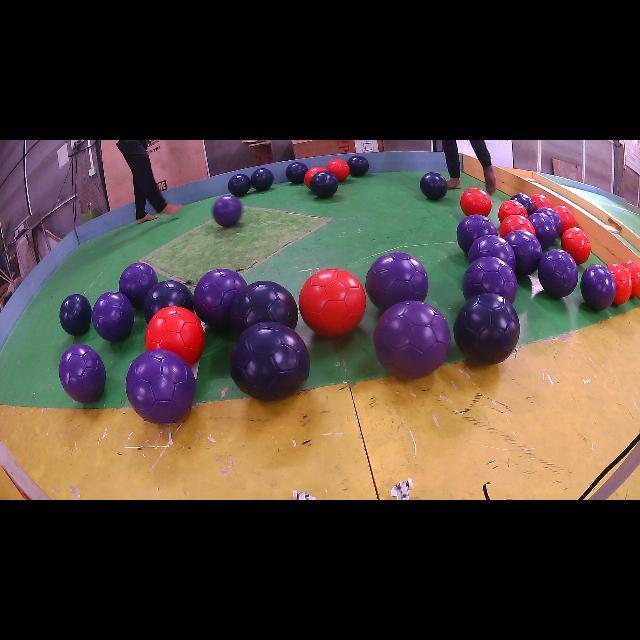B: (230, 322, 310, 401), (454, 292, 520, 364), (230, 281, 299, 334), (142, 280, 194, 322), (59, 294, 91, 336), (310, 170, 339, 199), (420, 172, 448, 200), (511, 192, 535, 215), (250, 168, 274, 191), (285, 162, 308, 184), (228, 174, 251, 196), (348, 155, 369, 176)
P: (374, 300, 450, 379), (126, 349, 196, 424), (365, 252, 429, 311), (194, 269, 246, 326), (59, 344, 106, 402), (462, 256, 518, 304), (91, 291, 134, 341), (538, 249, 579, 298), (119, 262, 158, 309), (505, 230, 542, 275), (580, 264, 616, 310), (469, 235, 516, 270), (456, 215, 498, 254), (529, 212, 556, 249), (212, 195, 242, 226), (537, 208, 561, 234)
R: (299, 269, 366, 336), (145, 306, 205, 365), (561, 228, 591, 264), (608, 264, 632, 304), (460, 188, 491, 216), (500, 215, 536, 238), (499, 200, 529, 222), (554, 205, 576, 233), (624, 260, 640, 298), (326, 159, 350, 181), (304, 166, 326, 188), (531, 194, 552, 210)
